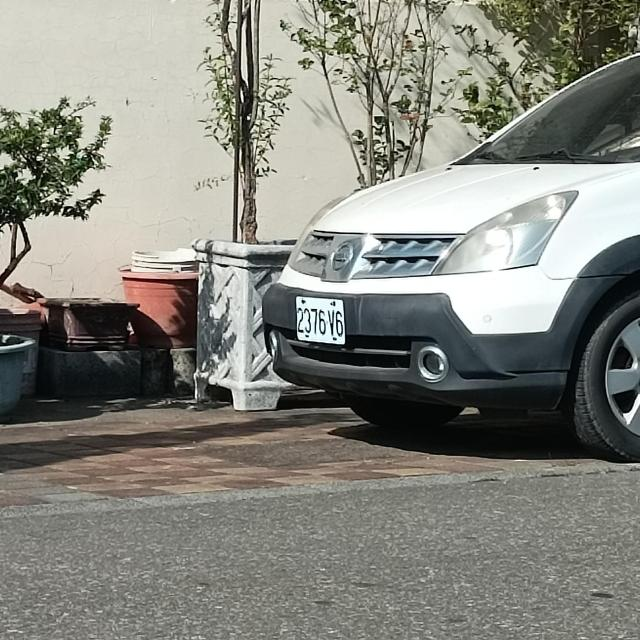W: (297, 297, 344, 344)
